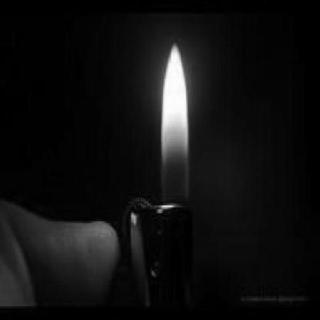Fire: (150, 36, 202, 216)
